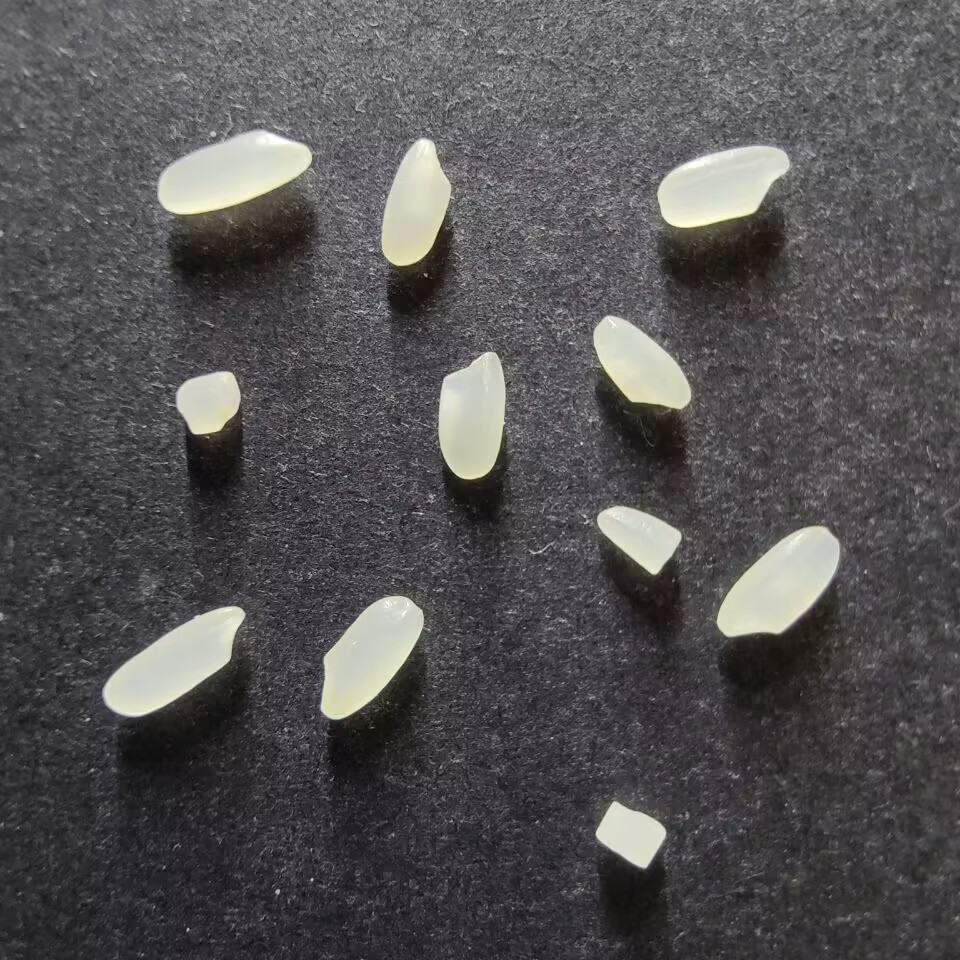broken: (596, 505, 681, 576), (594, 800, 667, 869), (175, 370, 240, 435)
rice: (102, 605, 244, 717), (716, 525, 839, 637), (157, 129, 311, 214), (319, 595, 423, 719), (657, 146, 789, 228), (379, 138, 451, 266), (592, 315, 690, 409), (437, 351, 505, 480)
